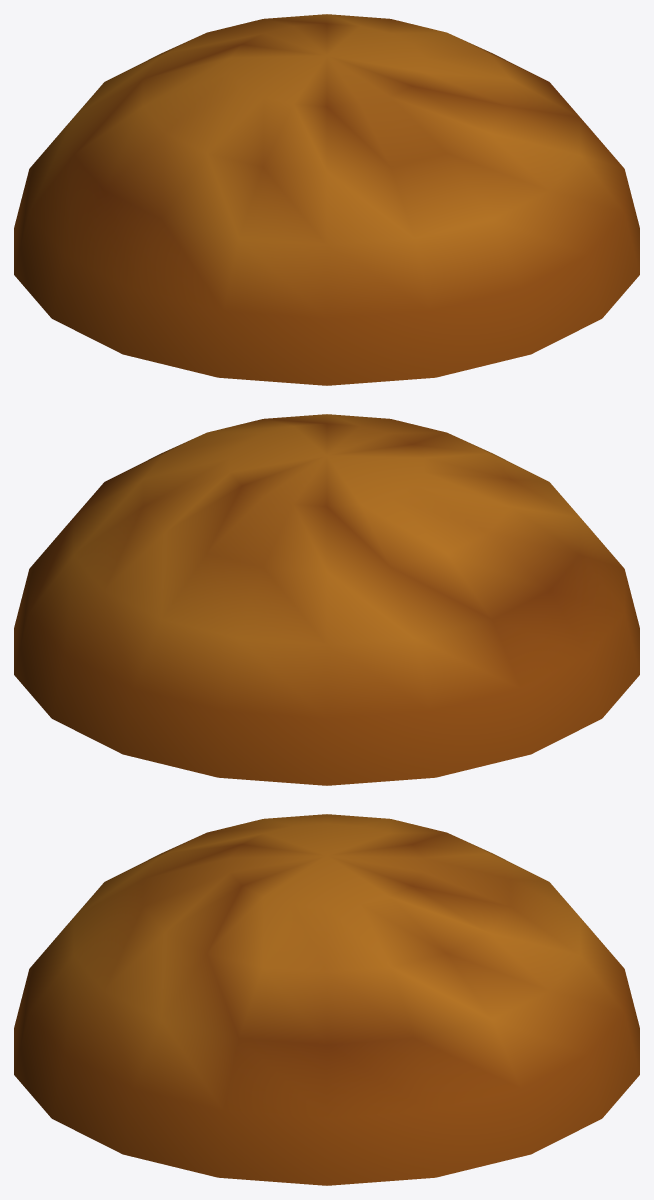
Rendered from mkt-bun.glb.
3 views of the same model, one above another, from view 1: azimuth 30°, elevation 25°; view 2: azimuth 150°, elevation 25°; view 3: azimuth 270°, elevation 25° (orthographic).
Parts seen in each view (by area): view 1: bun__food; view 2: bun__food; view 3: bun__food.
Boxes of the visible parts, x1,y1,x2,y2 form: bun__food: (14,14,639,385); bun__food: (14,414,639,785); bun__food: (14,814,639,1185).
Size of the model in its own units: 0.1 by 0.034 by 0.0985.
